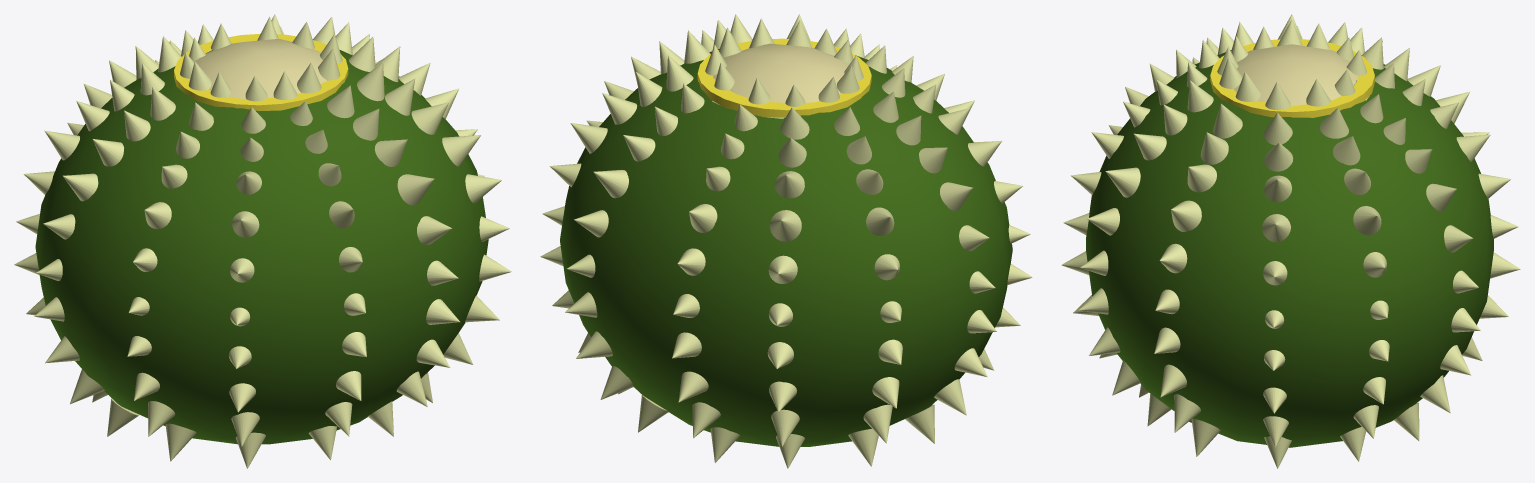
Rendered from Golden barrel cactus.fbx.
The picture shows the model from 3 angles, left to right: view 1: azimuth 30°, elevation 25°; view 2: azimuth 150°, elevation 25°; view 3: azimuth 270°, elevation 25°; orthographic projection.
Visible parts, largest first — view 1: mergedBlocks; view 2: mergedBlocks; view 3: mergedBlocks.
Part boxes in pixels (x1,y1,x2,y2): mergedBlocks: (14,14,511,468); mergedBlocks: (540,14,1032,468); mergedBlocks: (1061,14,1520,468).
Size of the model in its own units: 12.14 by 10.13 by 11.26.
